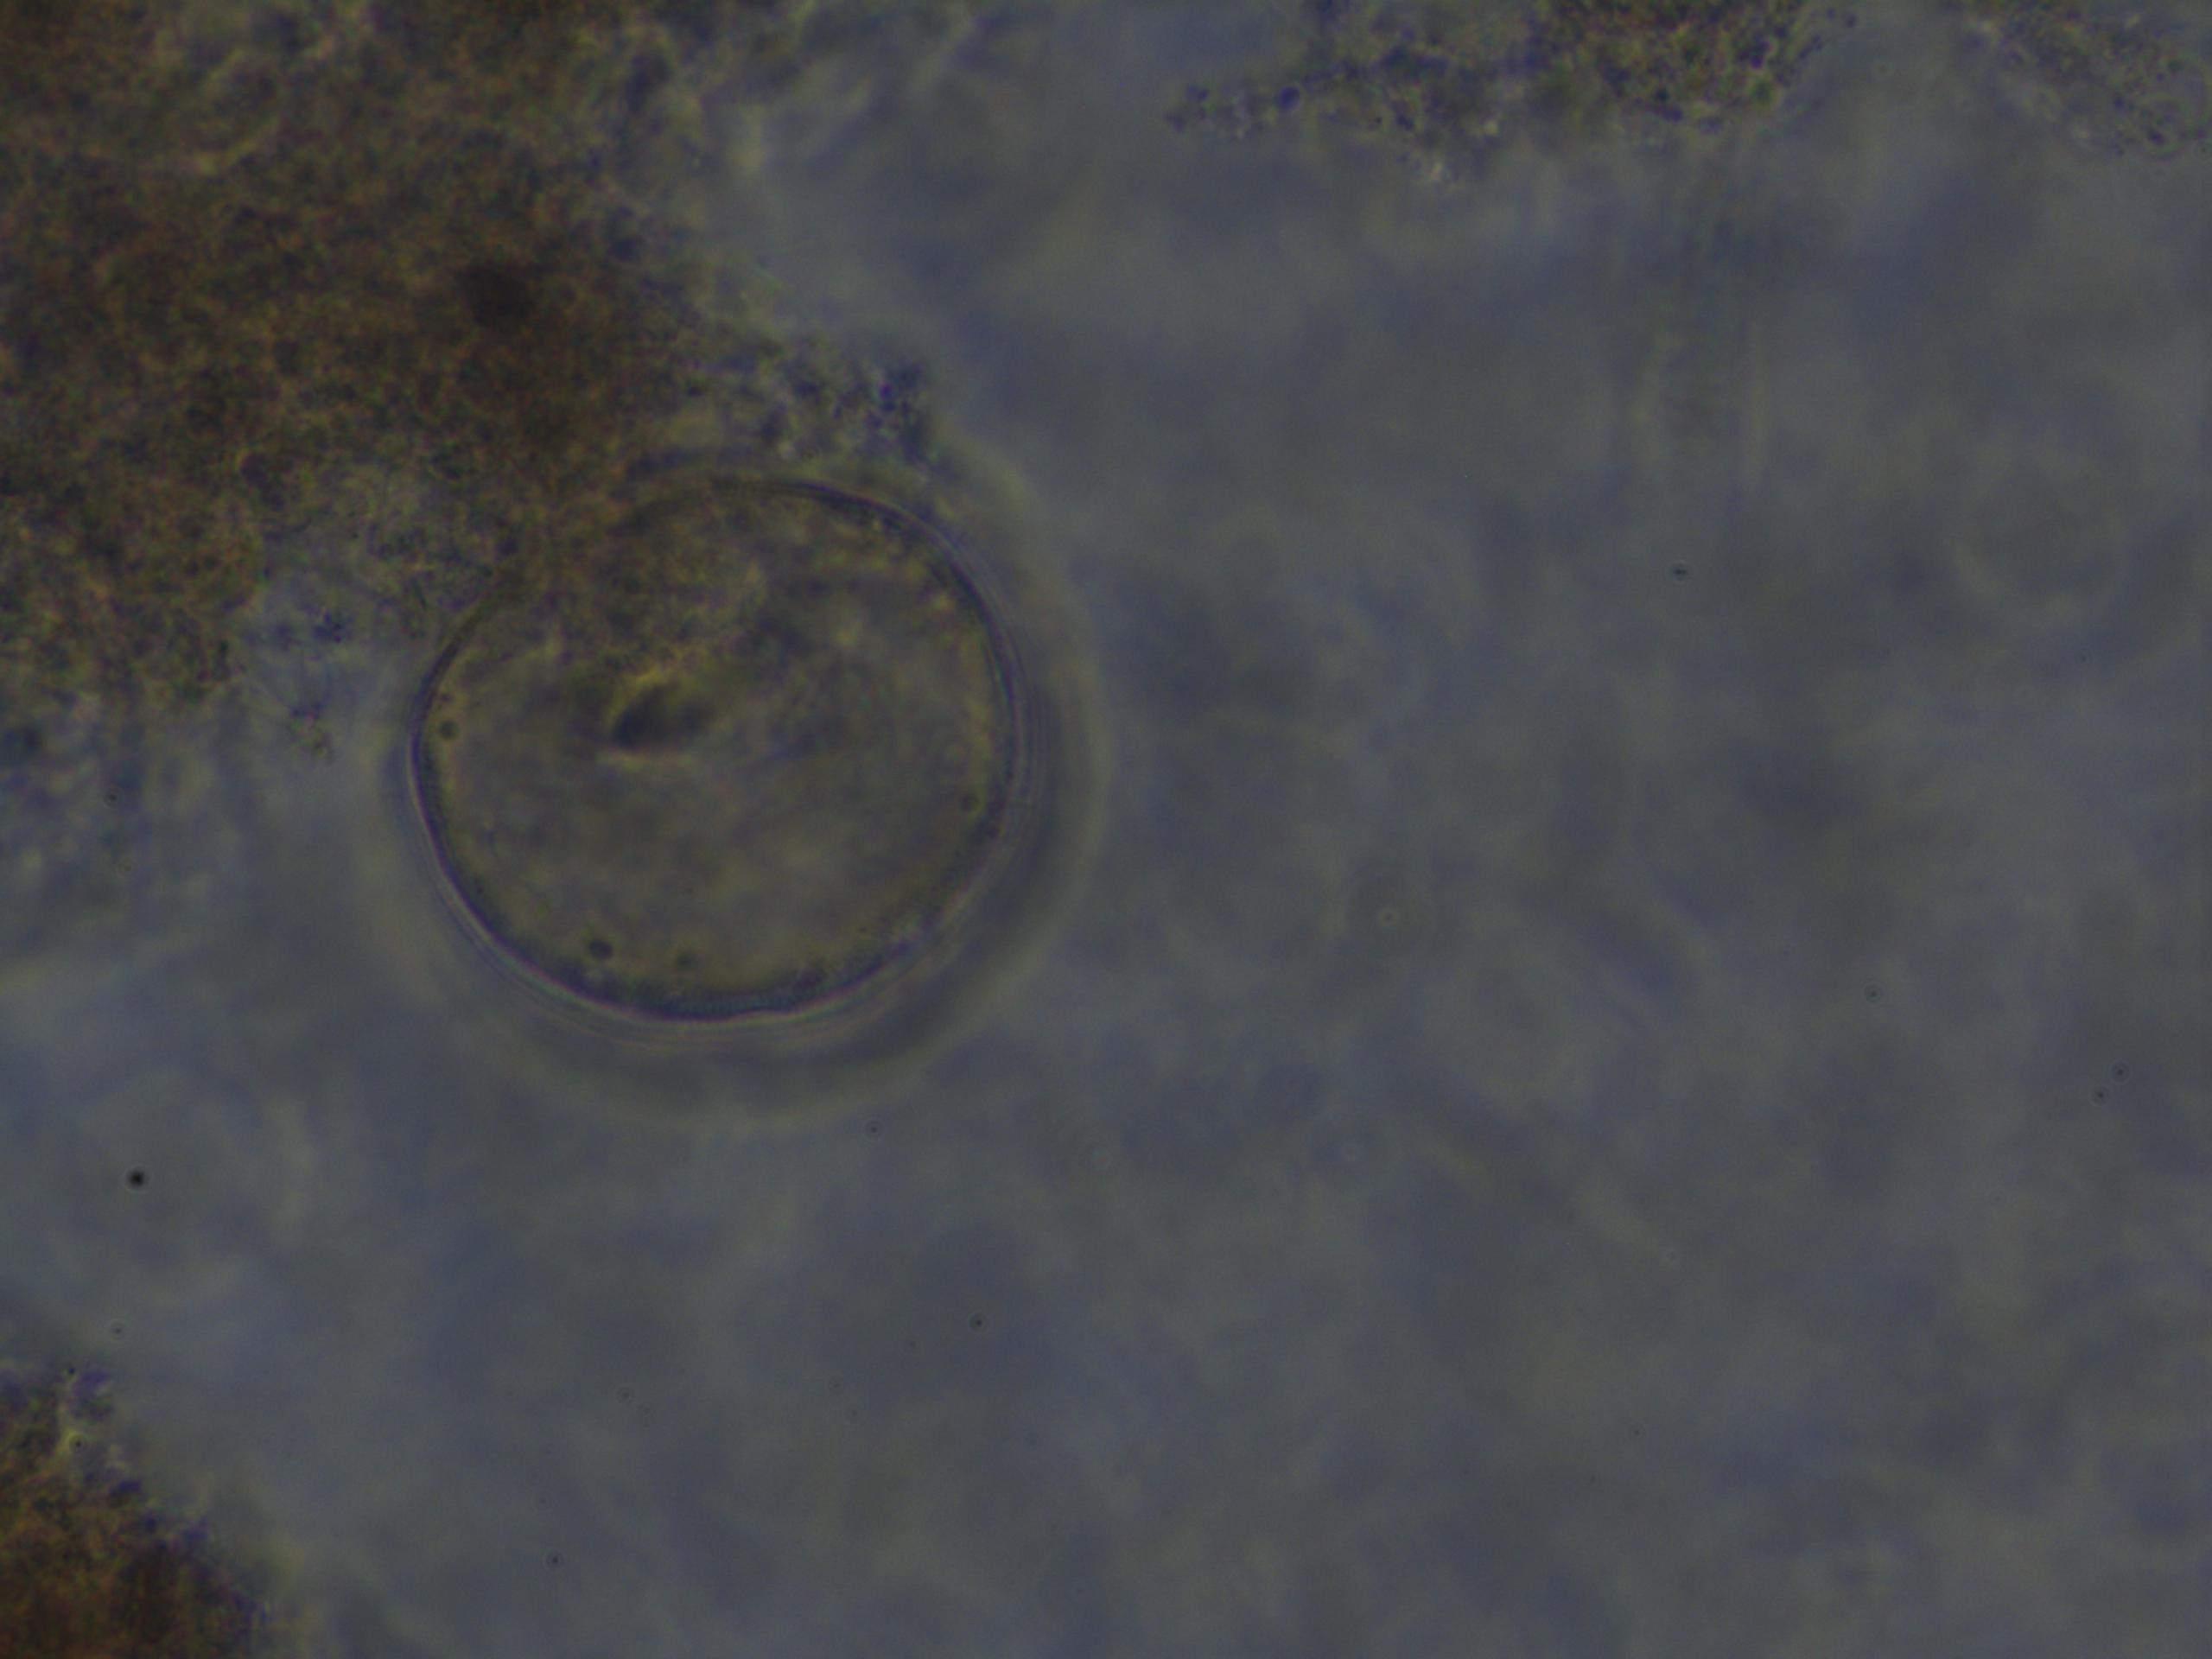protozoa: (331, 390, 1116, 1145)
